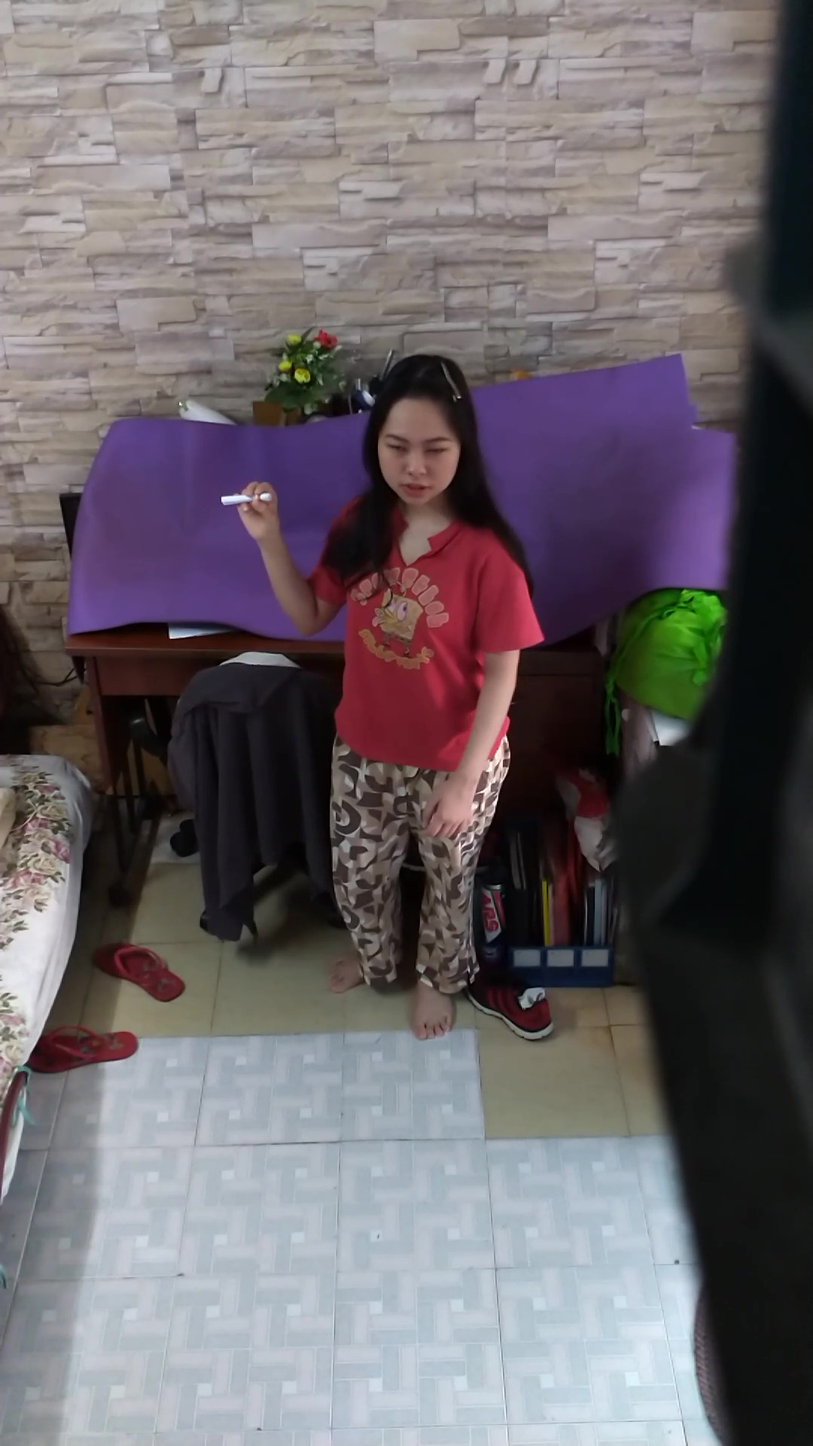cigarette: (218, 493, 253, 509)
person: (215, 355, 539, 1015)
